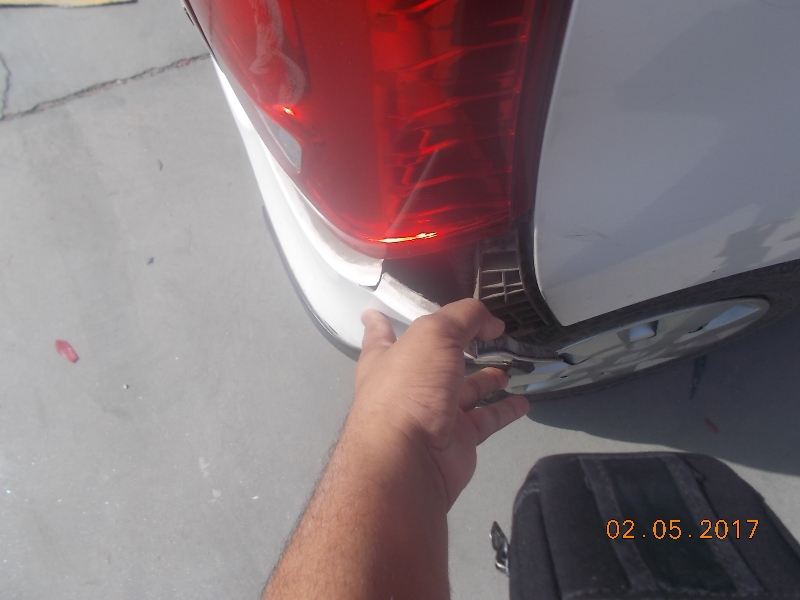Dislocation: (376, 223, 576, 387)
